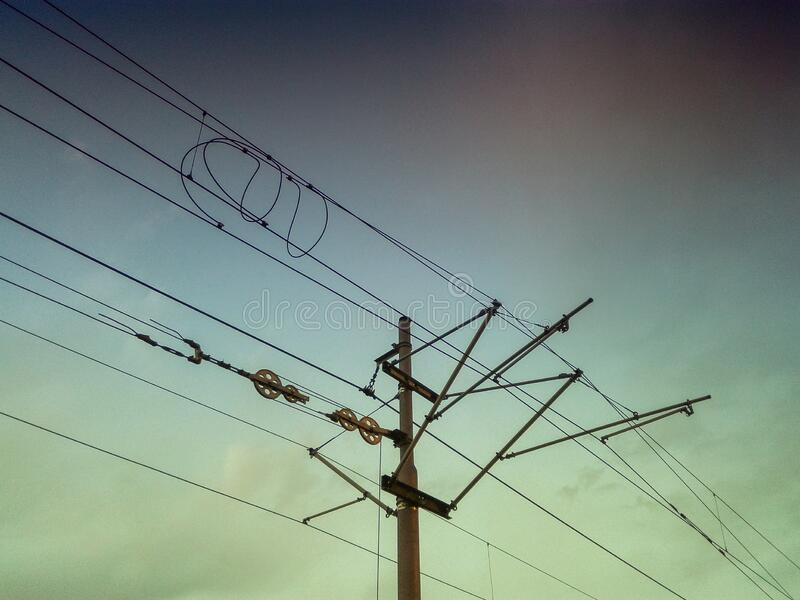wires-only: (139, 318, 392, 558), (156, 97, 345, 273), (0, 0, 134, 127)
